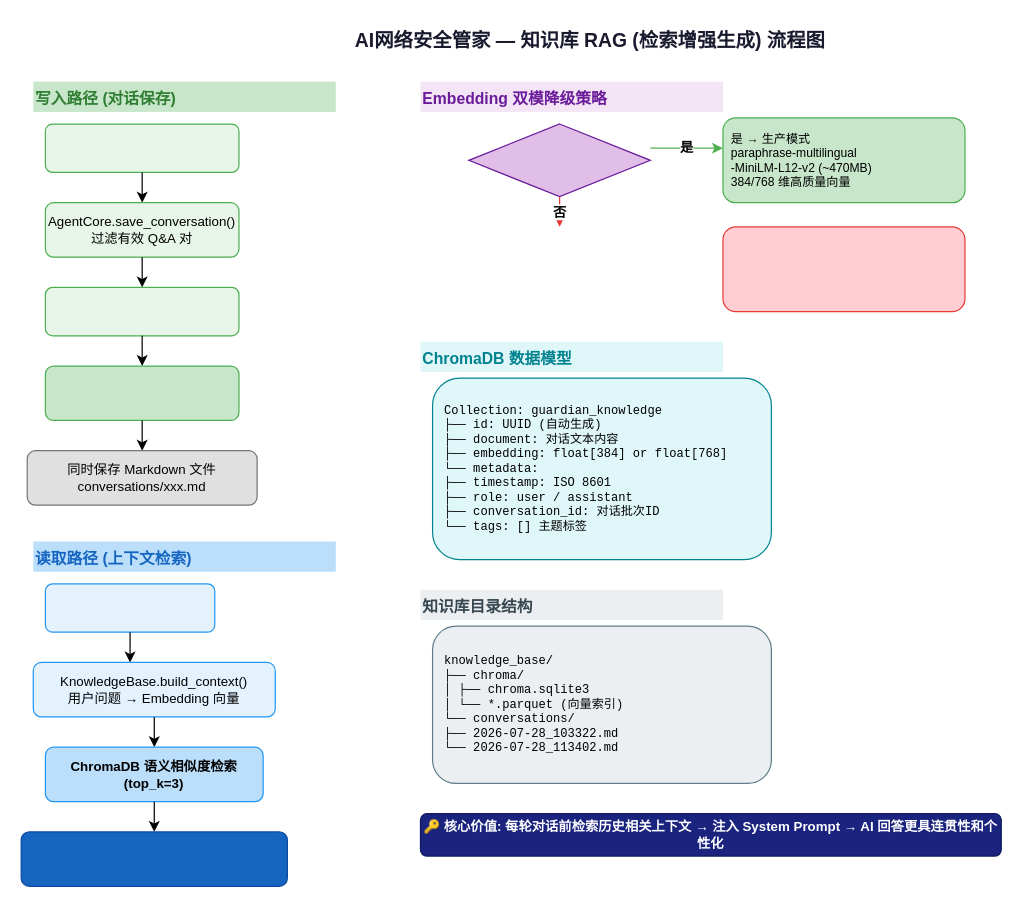
This 1022x908 diagram has some shape labels left out. The box of each missing label's shape, as (x1, y1, x2, y2) in pixels:
sentence-transformers 已安装?: (468, 123, 650, 197)
写入 ChromaDB (向量 + 元数据): (44, 365, 239, 420)
否 → 后备模式 TF-IDF (纯 Python) 零依赖、零 GPU 稀疏向量: (722, 226, 965, 312)
文本向量化 (Embedding): (44, 286, 239, 336)
用户与 AI 对话结束: (44, 123, 239, 172)
用户发送新问题: (44, 583, 215, 632)
相关知识片段 → 注入 System Prompt 实现 RAG 增强: (20, 831, 287, 886)
